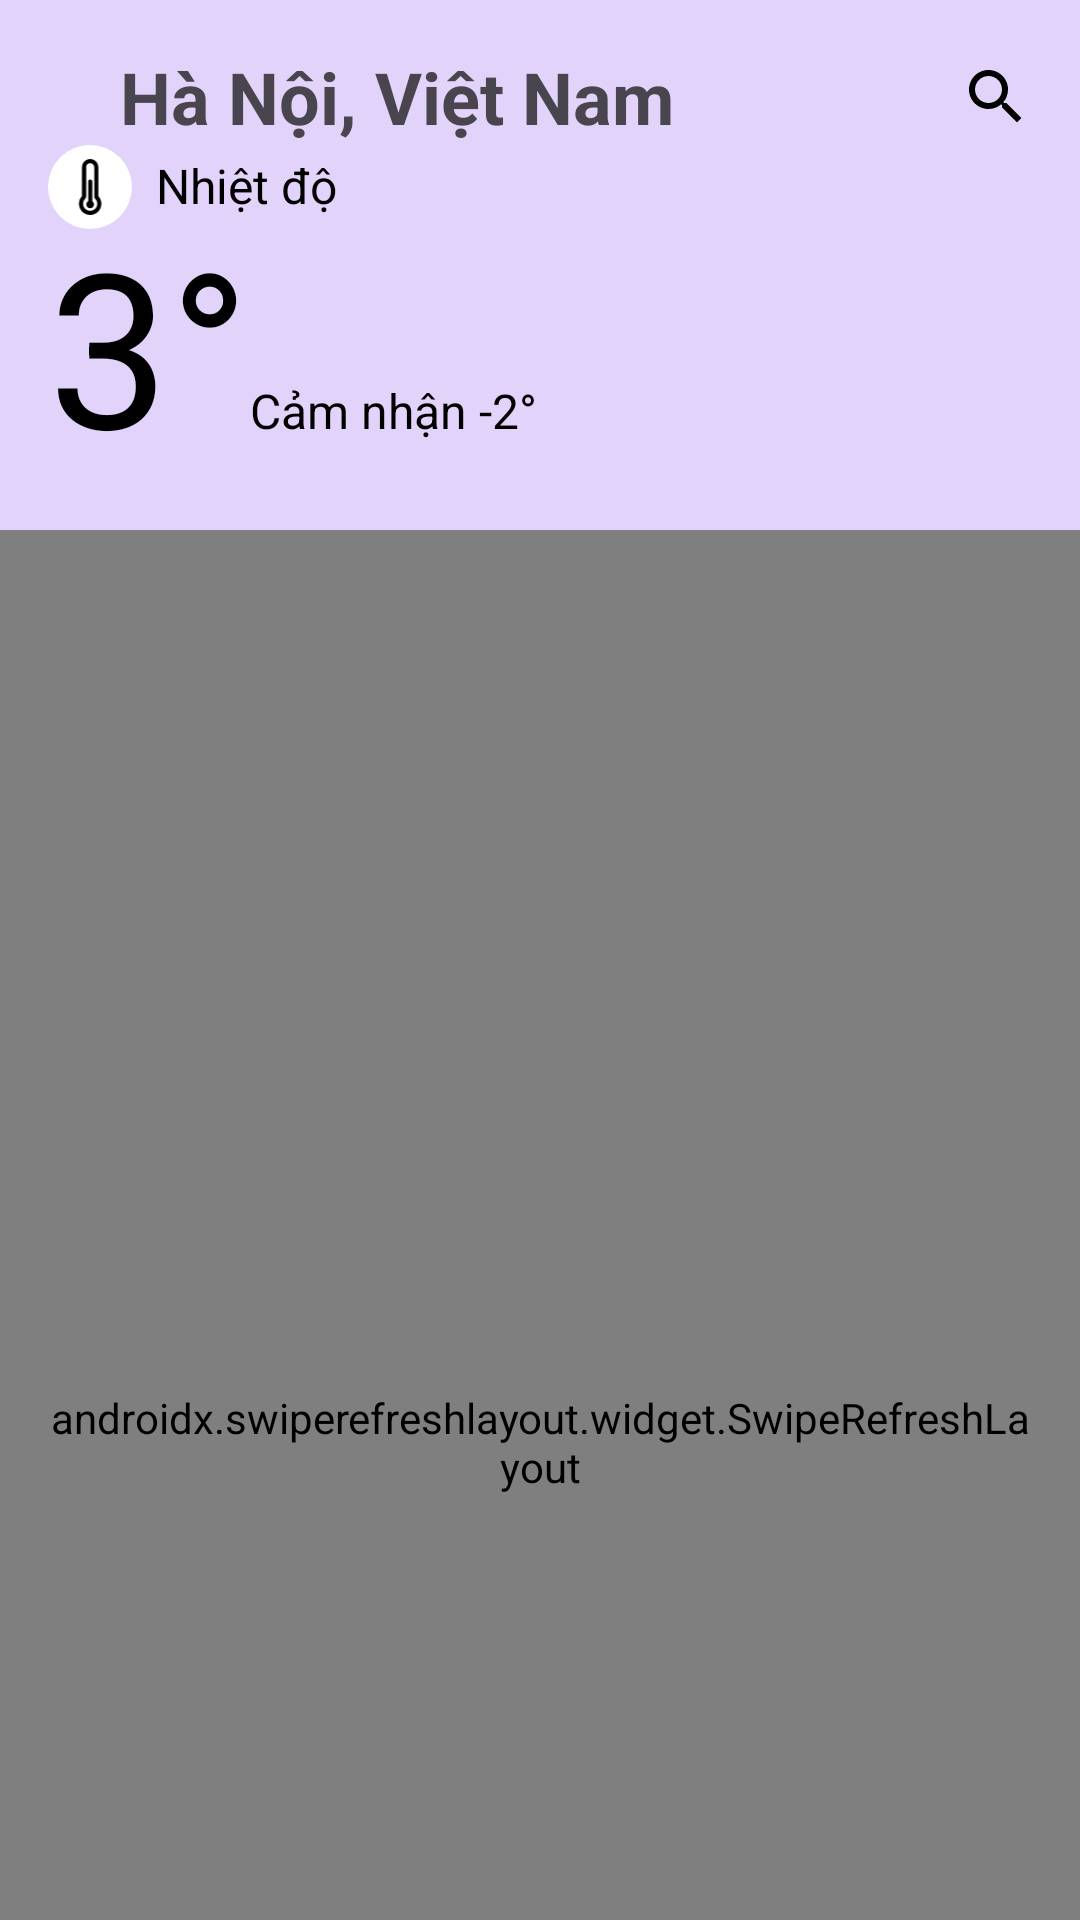

Screen size 1080 x 1920. Icon name, then its center in pixels as (x=x, y=y):
search: (x=995, y=96)
